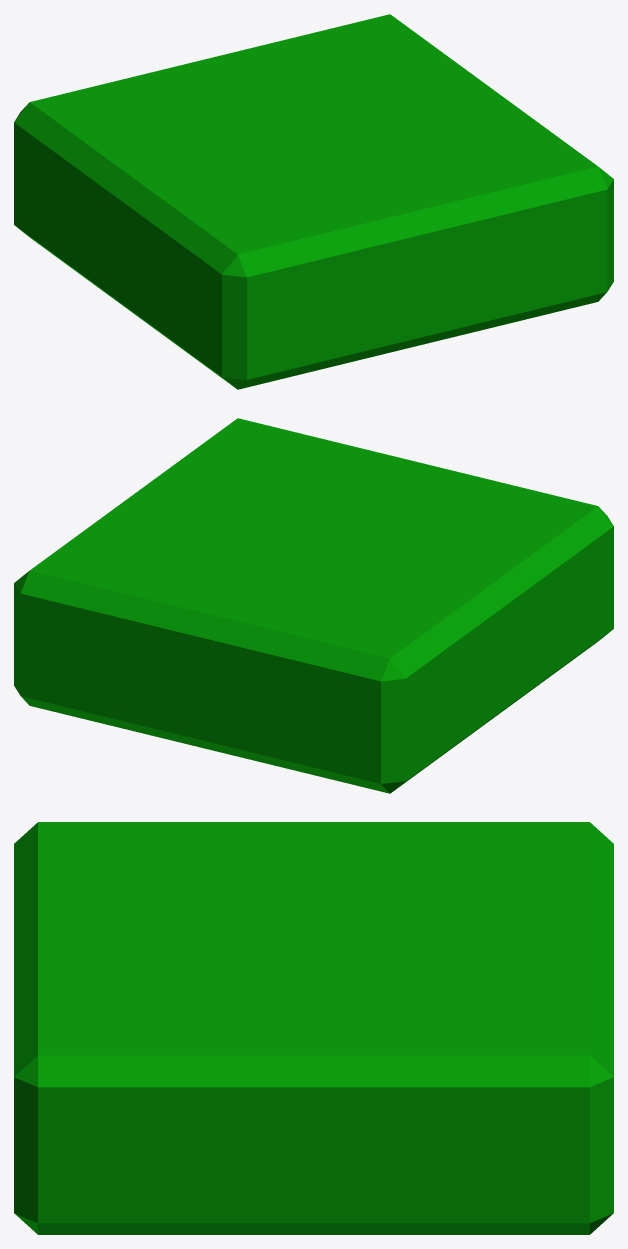
The model's file is grass_tile.glb.
3 renders of one model, top to bottom at view 1: azimuth 30°, elevation 25°; view 2: azimuth 150°, elevation 25°; view 3: azimuth 270°, elevation 25°, orthographic. The views are drawn at different scales.
Visible parts, largest first — view 1: Cube; view 2: Cube; view 3: Cube.
Boxes of the visible parts, bbox=[...] form: Cube: bbox=[14, 14, 613, 389]; Cube: bbox=[14, 418, 613, 793]; Cube: bbox=[14, 822, 613, 1234].
Size of the model in its own units: 1 by 0.33 by 1.
